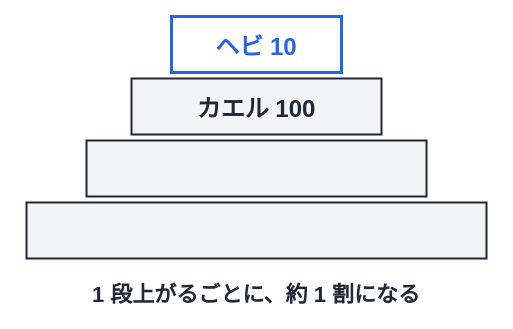
Image size: 513x329. Some labels were removed from this diagram. Here are the shapes that lost their labels. From the top down, the box of each, then its label:
(85, 139, 427, 197): バッタ 1,000
(25, 201, 487, 259): 草 10,000
